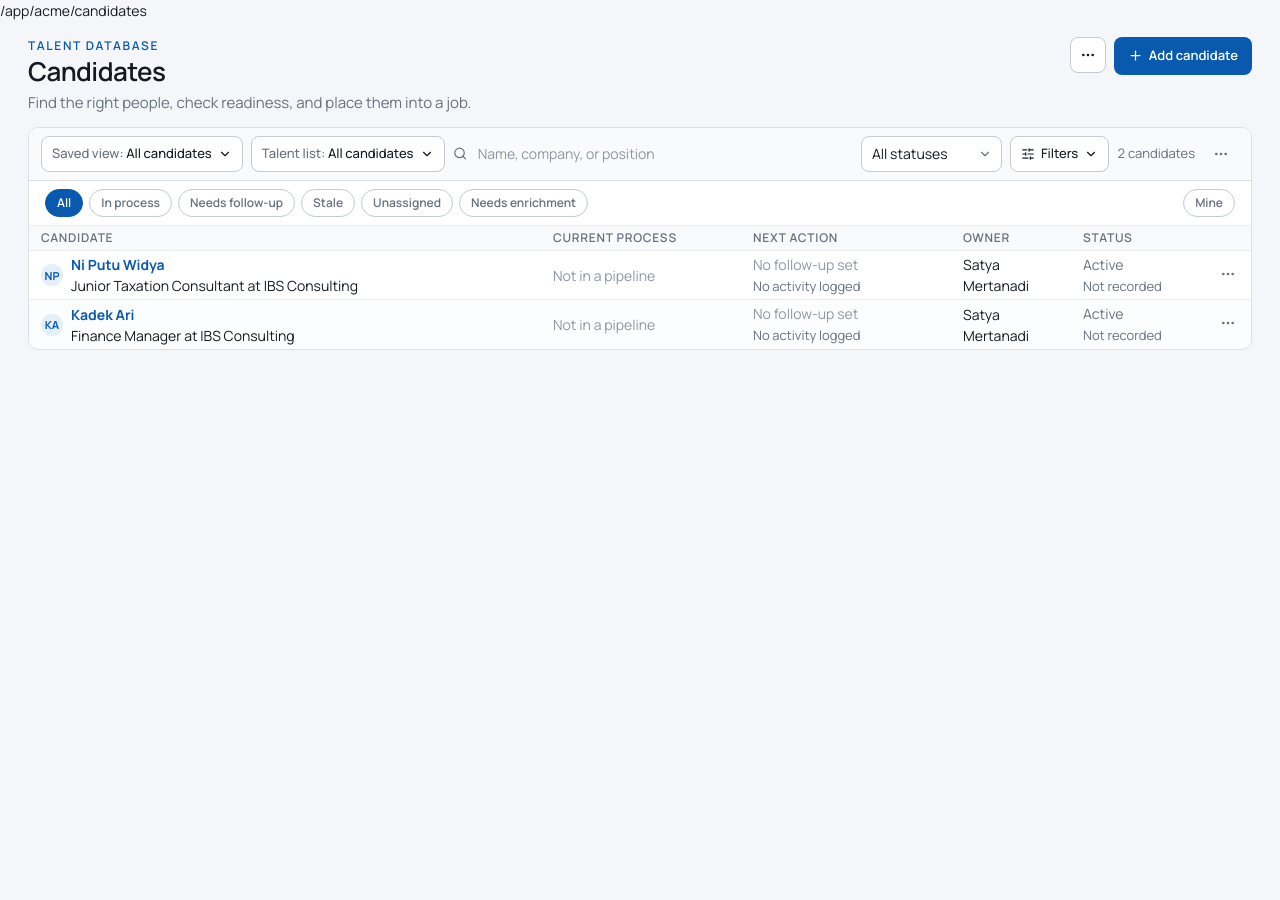
CandidatesPage Quick View › opens Quick View with v on the row the keyboard is on
Focus the text "Kadek Ari" at (640, 325), box [29,300,1251,349]
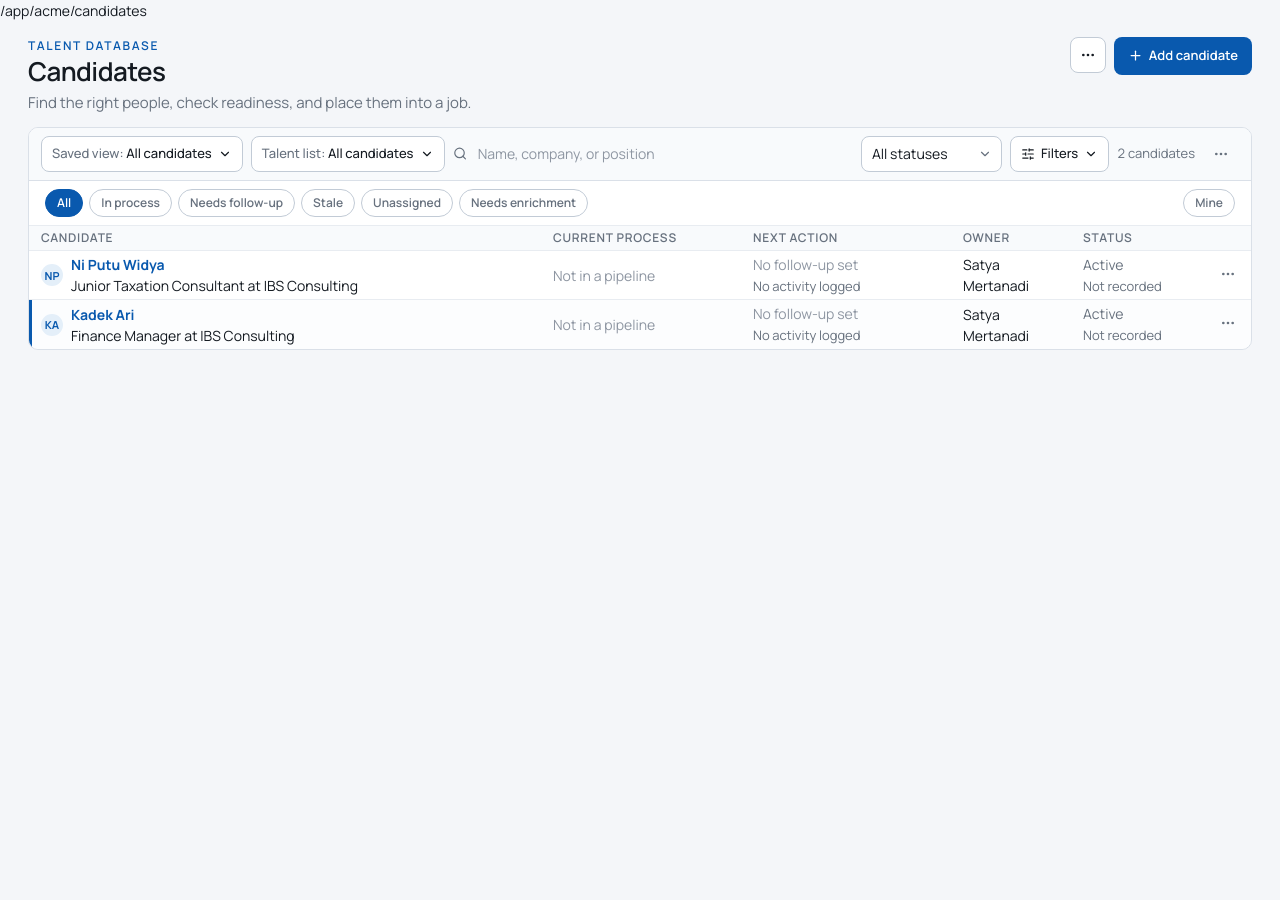
Press v
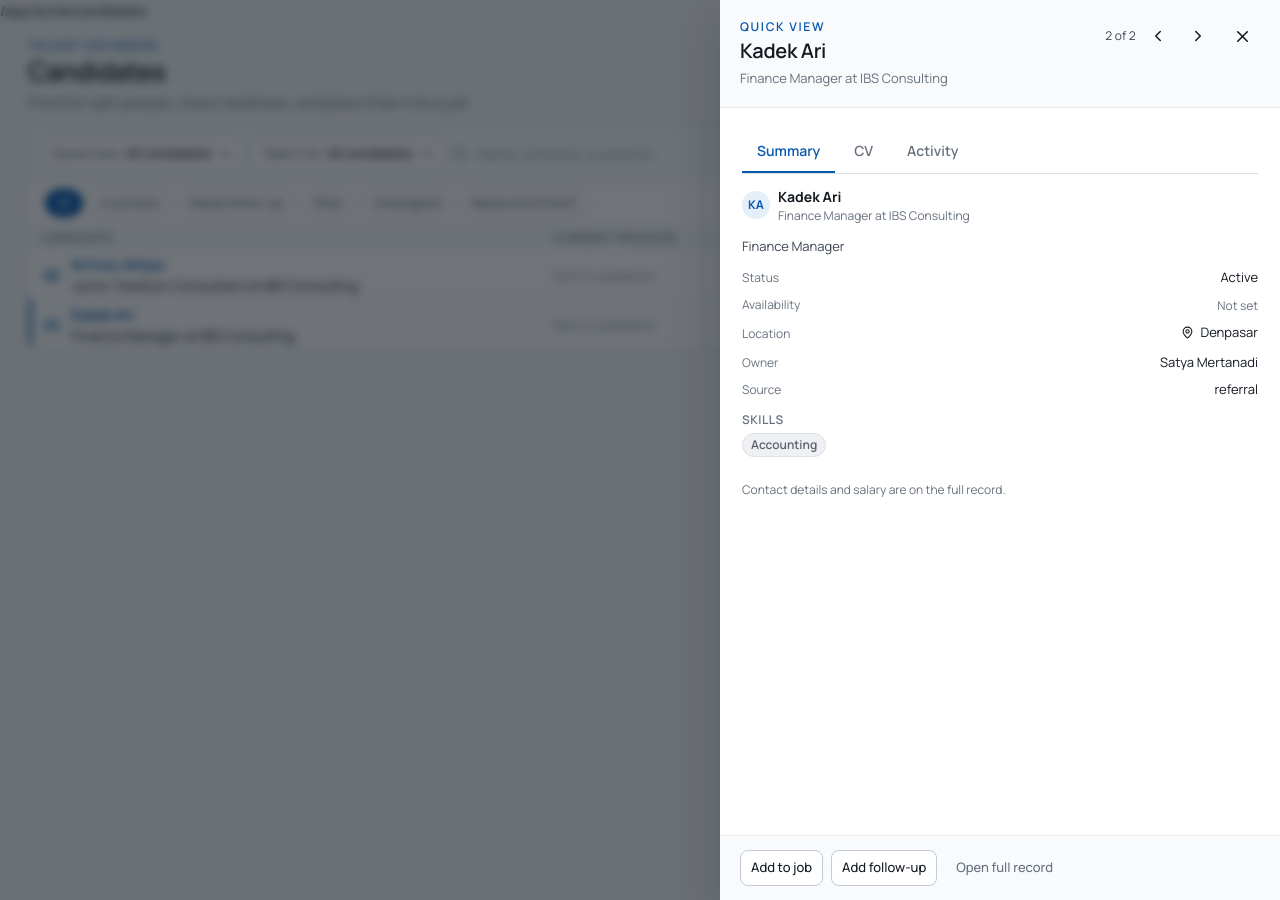
Now the dialog shows "Kadek Ari", box [740,37,826,64]
